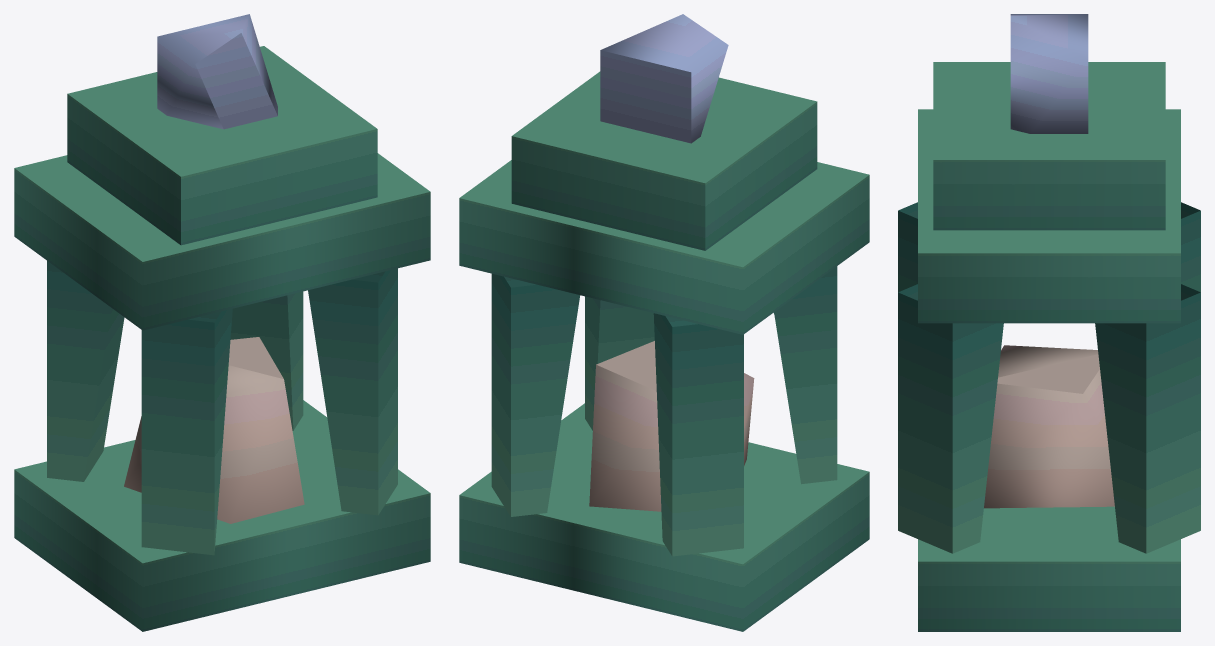
File: lantern-candle.glb
3 views of the same model, side by side, from view 1: azimuth 30°, elevation 25°; view 2: azimuth 150°, elevation 25°; view 3: azimuth 270°, elevation 25° (orthographic). The views are drawn at different scales.
Parts seen in each view (by area): view 1: lantern-candle; view 2: lantern-candle; view 3: lantern-candle.
Boxes of the visible parts, x1,y1,x2,y2 form: lantern-candle: (14,14,430,631); lantern-candle: (459,14,869,631); lantern-candle: (898,14,1200,631).
Bounding box in the file's own units: 0.22 × 0.3877 × 0.1957.
Materials: 1 (1 with a texture image).
